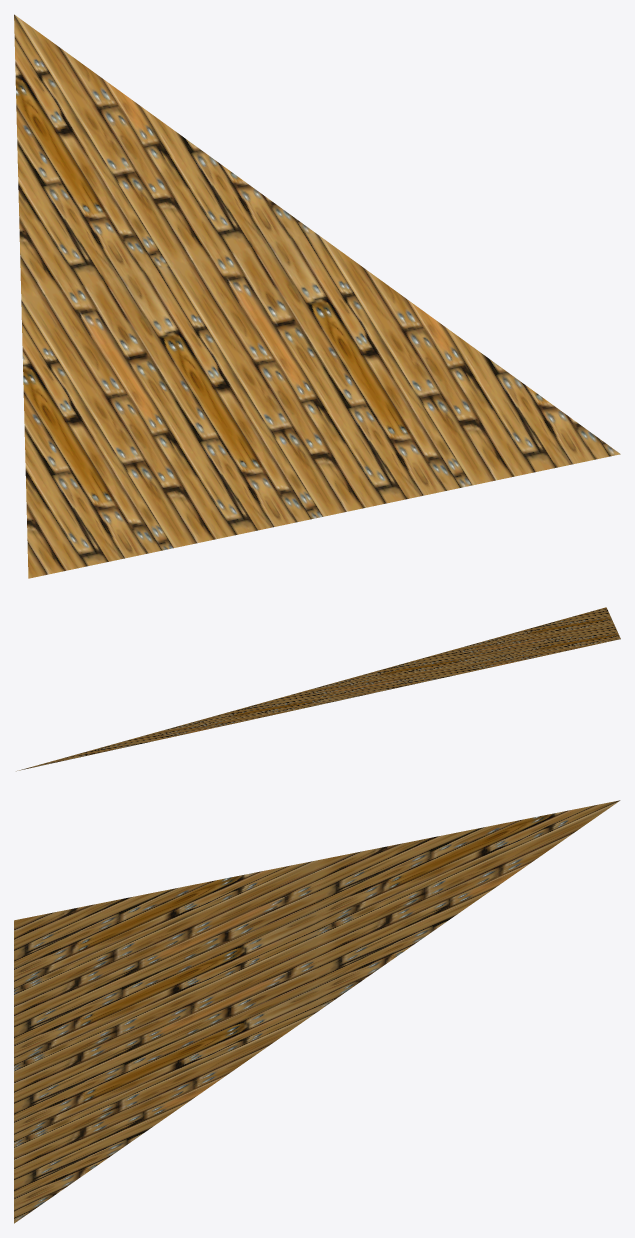
Rendered from Schiff_BugPlattform_1279.glb.
3 renders of one model, top to bottom at view 1: azimuth 30°, elevation 25°; view 2: azimuth 210°, elevation 25°; view 3: azimuth 270°, elevation 25°, orthographic.
Visible parts, largest first — view 1: ship_plattform_bugShape1; view 2: ship_plattform_bugShape1; view 3: ship_plattform_bugShape1.
Part boxes in pixels (<box>): ship_plattform_bugShape1: <box>14,14,620,578</box>; ship_plattform_bugShape1: <box>16,607,620,771</box>; ship_plattform_bugShape1: <box>14,800,620,1223</box>.
Size of the model in its own units: 1.22 by 0.5635 by 1.1.
1 material, 1 textured.
